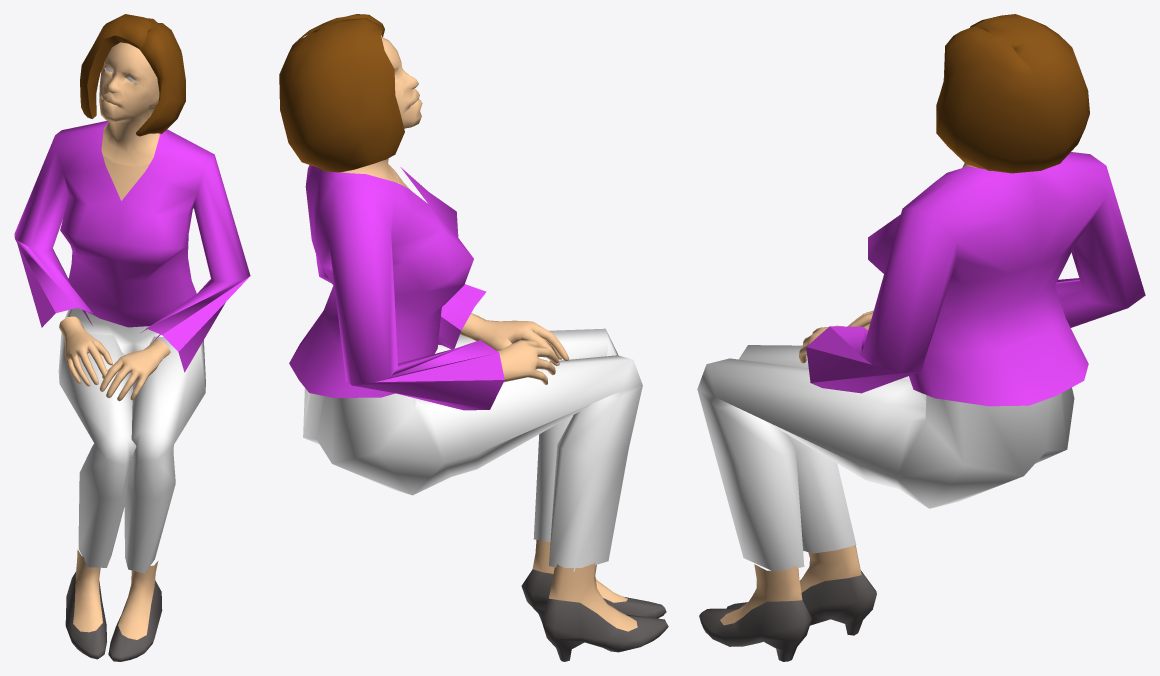
The model's file is player4.gltf.
3 renders of one model, left to right at view 1: azimuth 30°, elevation 25°; view 2: azimuth 150°, elevation 25°; view 3: azimuth 270°, elevation 25°, orthographic. The views are drawn at different scales.
Visible parts, largest first — view 1: Group_099, Group_101, Group_102, Group_103, Group_105, Group_106, Group_100; view 2: Group_101, Group_099, Group_103, Group_102, Group_106, Group_105; view 3: Group_099, Group_101, Group_103, Group_106, Group_105.
Part boxes in pixels (box(x1,y1,x2,y2)): Group_099: box(14, 121, 250, 372); Group_101: box(58, 308, 205, 573); Group_102: box(59, 42, 170, 401); Group_103: box(80, 14, 185, 136); Group_105: box(73, 549, 158, 639); Group_106: box(65, 572, 162, 661); Group_100: box(103, 155, 149, 200); Group_101: box(303, 328, 642, 571); Group_099: box(289, 165, 504, 410); Group_103: box(279, 14, 404, 172); Group_102: box(340, 37, 569, 384); Group_106: box(521, 569, 668, 661); Group_105: box(532, 540, 637, 631); Group_099: box(806, 152, 1145, 406); Group_101: box(697, 345, 1074, 570); Group_103: box(936, 14, 1089, 173); Group_106: box(699, 570, 876, 661); Group_105: box(720, 545, 861, 625).
Size of the model in its own units: 1.03 by 2.38 by 1.41.
